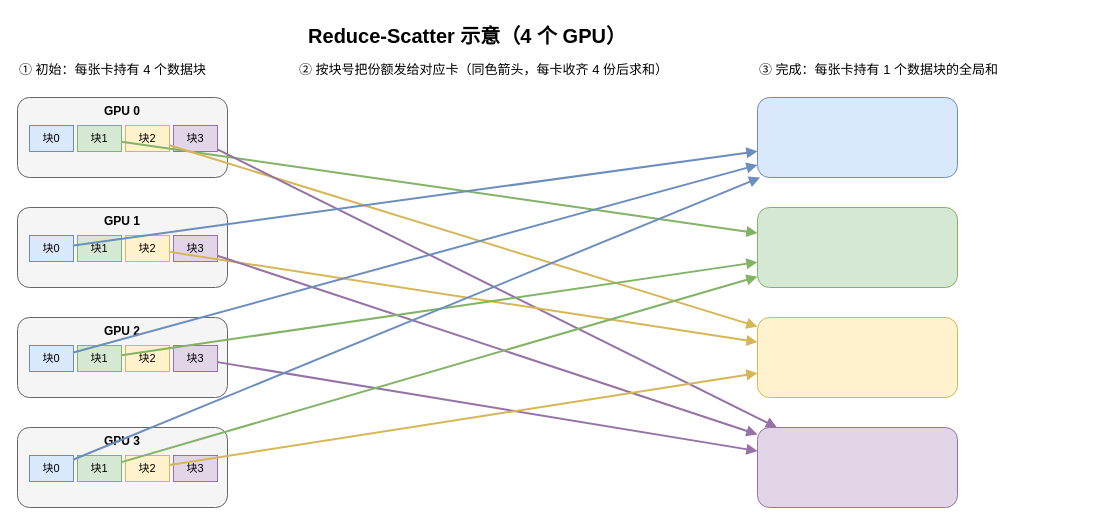
Image size: 1115x525. Some labels were removed from this diagram. Each missing label, with the box of its shape:
GPU 0 结果 Σ 块0: (756, 96, 958, 178)
GPU 1 结果 Σ 块1: (756, 206, 958, 288)
GPU 2 结果 Σ 块2: (756, 316, 958, 398)
GPU 3 结果 Σ 块3: (756, 426, 958, 508)
